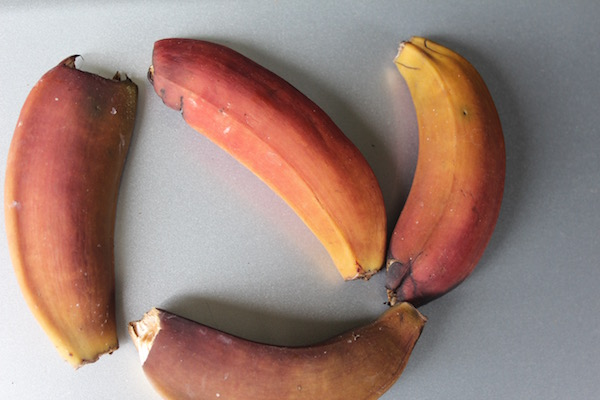looks_defective: (7, 40, 533, 400)
